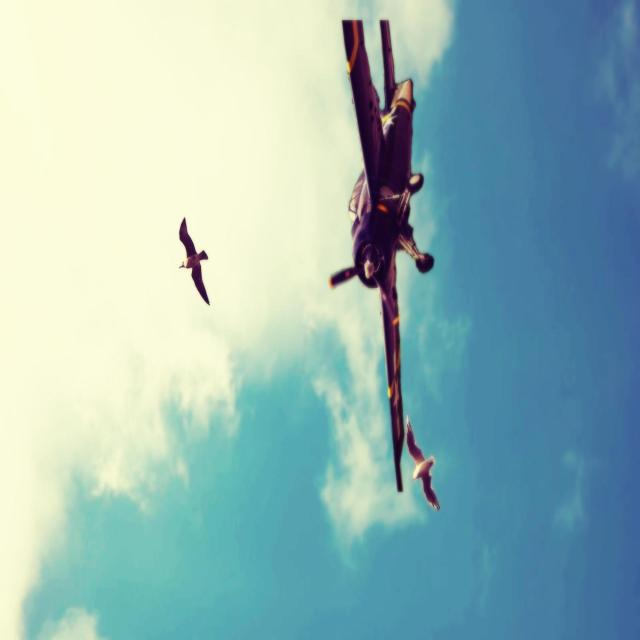airplane: (328, 17, 435, 493)
